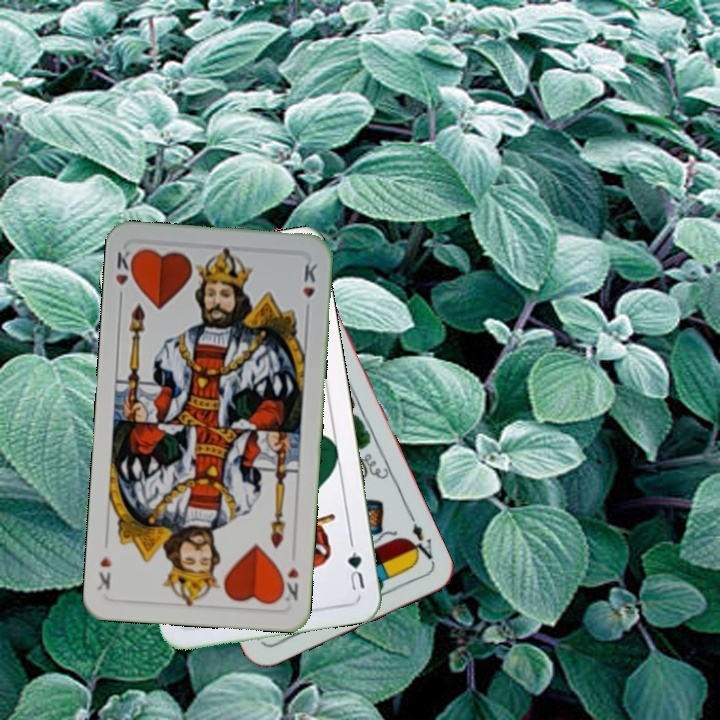EA: (404, 510, 435, 565)
GU: (343, 547, 368, 593)
HK: (111, 246, 139, 304), (276, 563, 302, 605)
